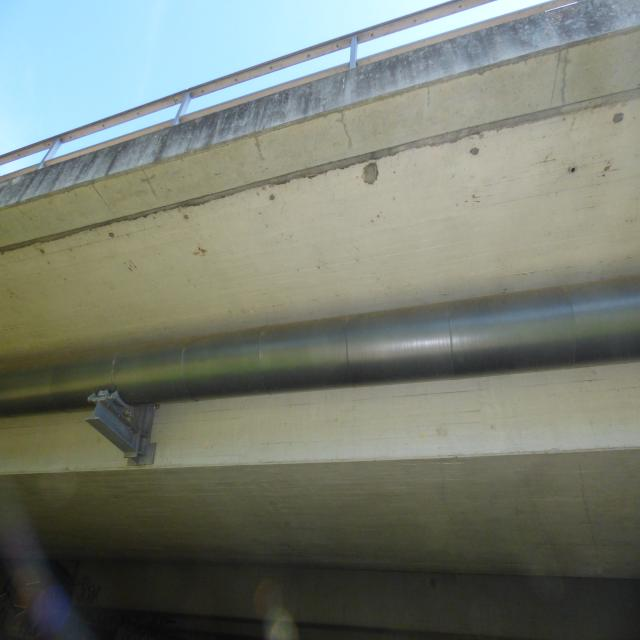corrosion: (190, 244, 210, 261)
